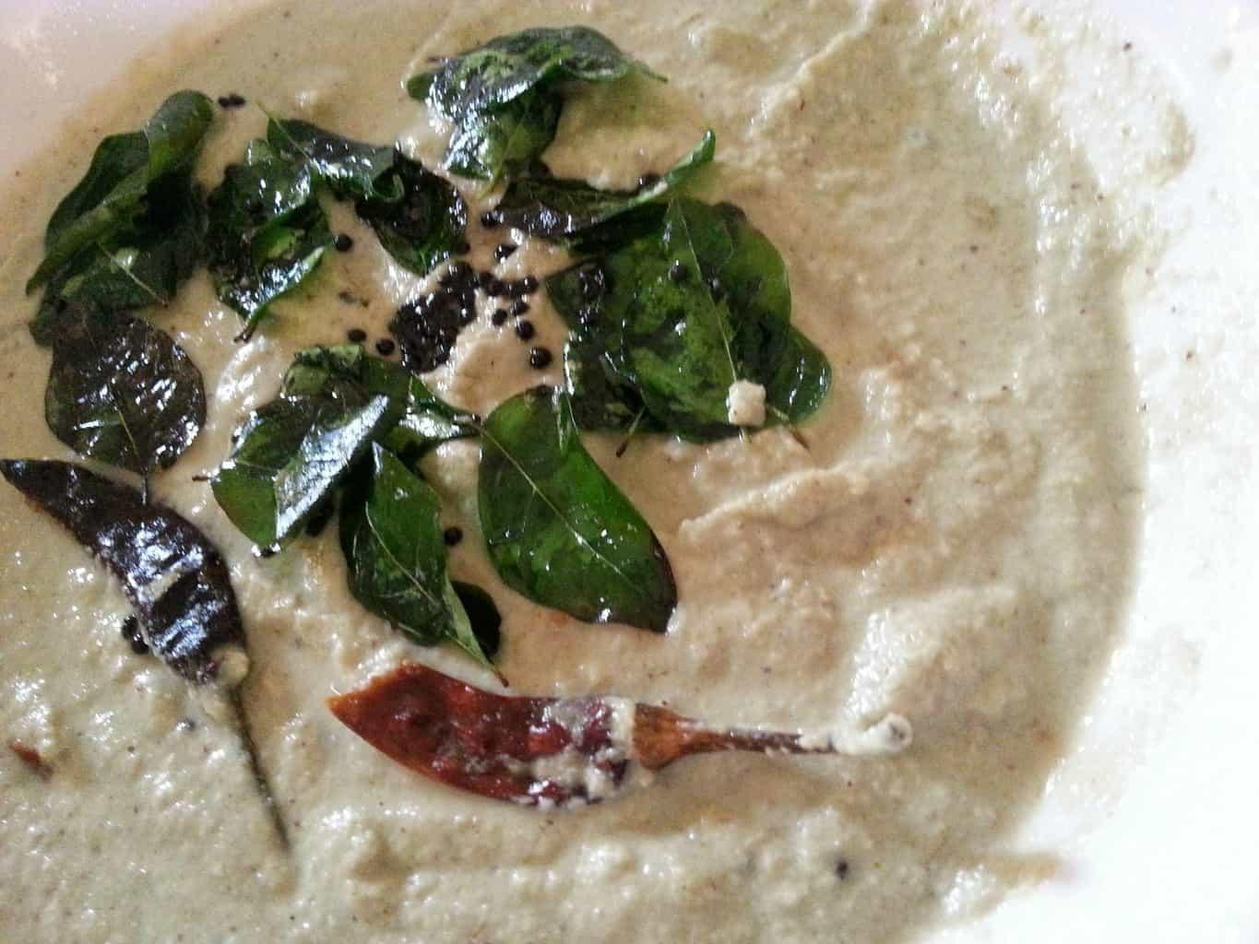CoconutChutney: (0, 4, 1258, 944)
